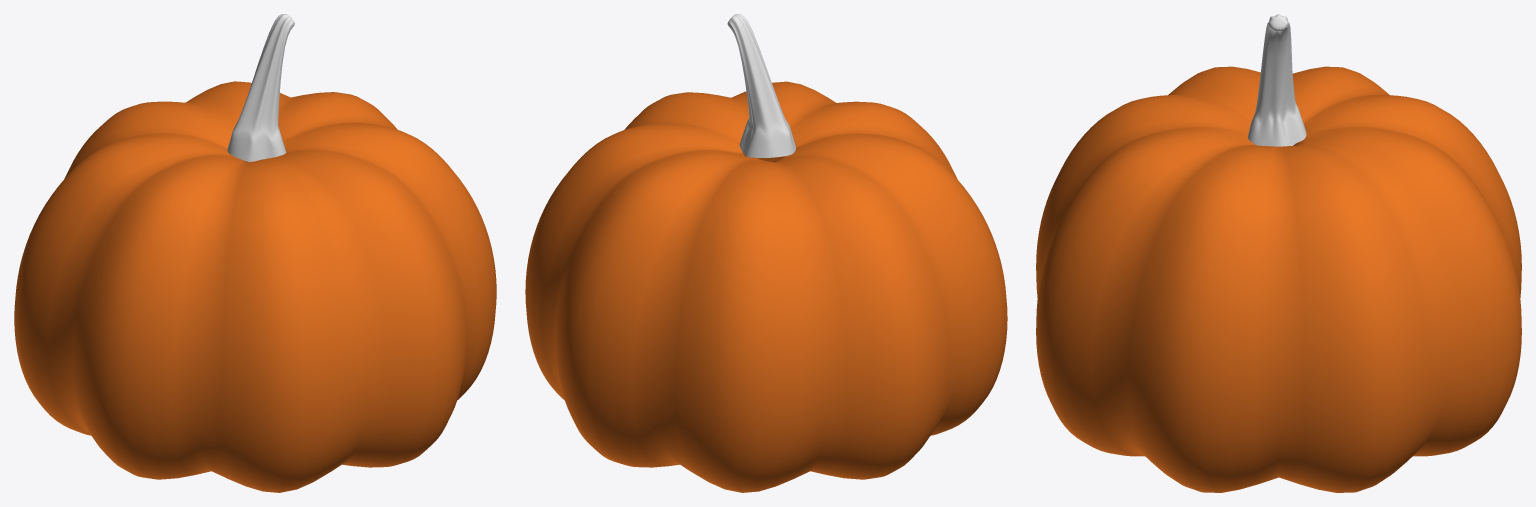
Rendered from pumpkin.fbx.
3 renders of one model, left to right at view 1: azimuth 30°, elevation 25°; view 2: azimuth 150°, elevation 25°; view 3: azimuth 270°, elevation 25°, orthographic. The views are drawn at different scales.
Visible parts, largest first — view 1: Sphere, Sphere.001; view 2: Sphere, Sphere.001; view 3: Sphere, Sphere.001.
Boxes of the visible parts, x1,y1,x2,y2 form: Sphere: (14,81,496,492); Sphere.001: (227,14,294,161); Sphere: (525,81,1007,492); Sphere.001: (727,14,795,157); Sphere: (1036,66,1521,492); Sphere.001: (1248,14,1306,146).
Bounding box in the file's own units: 25.01 × 24.51 × 25.01.
